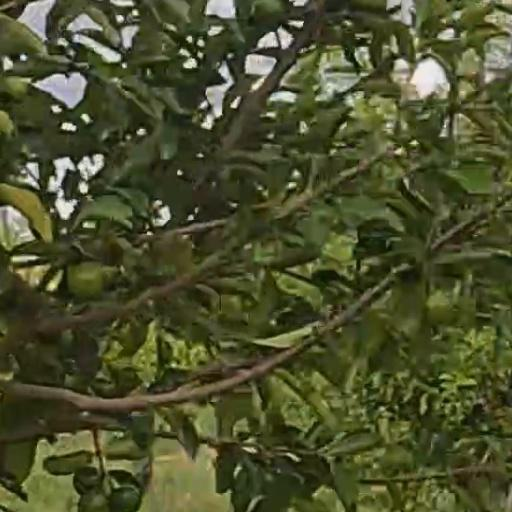acerola_verde: (67, 262, 102, 297), (79, 489, 108, 510), (111, 488, 137, 507)
